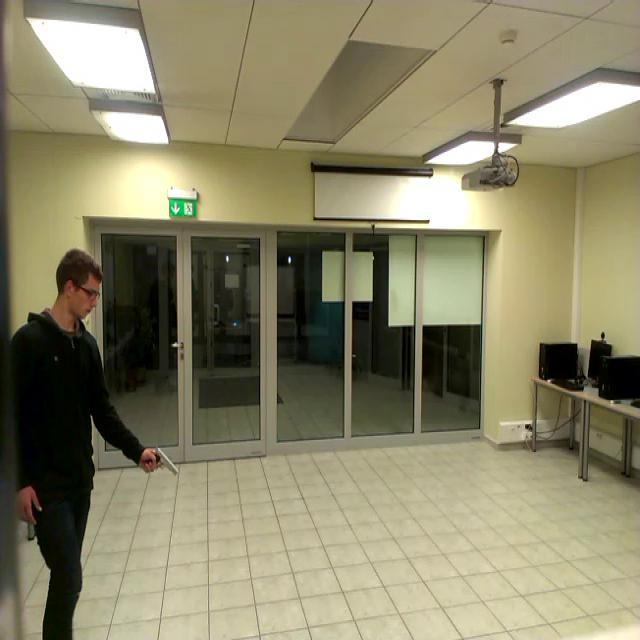Gun: (145, 446, 180, 474)
